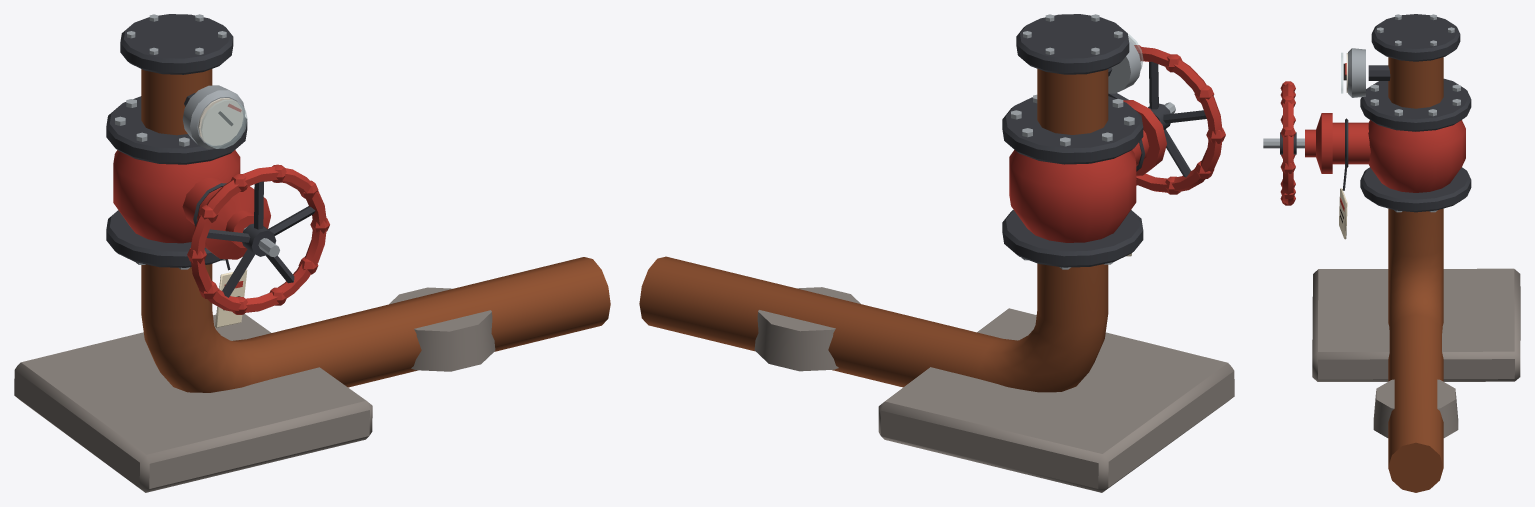
The model's file is deco_pipe_valve.fbx.
The picture shows the model from 3 angles, left to right: view 1: azimuth 30°, elevation 25°; view 2: azimuth 150°, elevation 25°; view 3: azimuth 270°, elevation 25°; orthographic projection. The views are drawn at different scales.
Parts seen in each view (by area): view 1: Pipe_Valve_Pipe, Pipe_Valve_Valve, Pipe_Valve_Wheel, Pipe_Valve_Gauge, Pipe_Valve_Tag; view 2: Pipe_Valve_Pipe, Pipe_Valve_Valve, Pipe_Valve_Wheel, Pipe_Valve_Gauge; view 3: Pipe_Valve_Pipe, Pipe_Valve_Valve, Pipe_Valve_Wheel, Pipe_Valve_Gauge, Pipe_Valve_Tag.
Boxes of the visible parts, x1,y1,x2,y2 form: Pipe_Valve_Pipe: [14, 14, 610, 492]; Pipe_Valve_Valve: [106, 96, 279, 269]; Pipe_Valve_Wheel: [187, 164, 329, 314]; Pipe_Valve_Gauge: [182, 85, 247, 148]; Pipe_Valve_Tag: [193, 183, 247, 327]; Pipe_Valve_Pipe: [639, 14, 1234, 492]; Pipe_Valve_Valve: [1002, 94, 1175, 269]; Pipe_Valve_Wheel: [1108, 45, 1225, 194]; Pipe_Valve_Gauge: [1108, 34, 1143, 93]; Pipe_Valve_Pipe: [1312, 14, 1520, 492]; Pipe_Valve_Valve: [1263, 78, 1471, 212]; Pipe_Valve_Wheel: [1280, 81, 1296, 205]; Pipe_Valve_Gauge: [1341, 48, 1365, 97]; Pipe_Valve_Tag: [1339, 118, 1348, 239].
Bounding box in the file's own units: 167 × 122 × 92.74.
